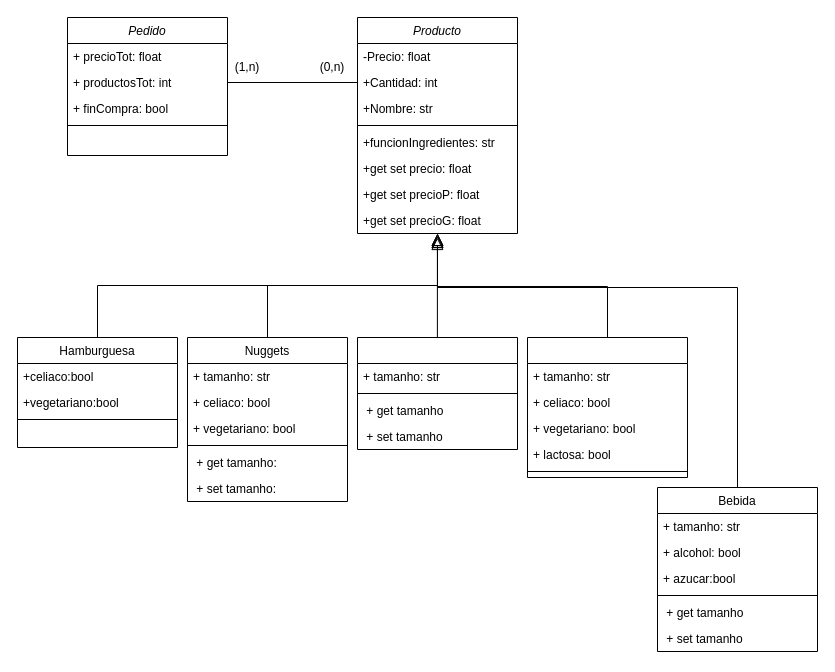
The diagram is 835 pixels wide and 672 high, and some of its shapes have lost their labels. Here are the shapes that lost their labels. From the top down, the box of each, then its label:
(356, 336, 518, 450): Patatas
(526, 336, 688, 478): Postre
